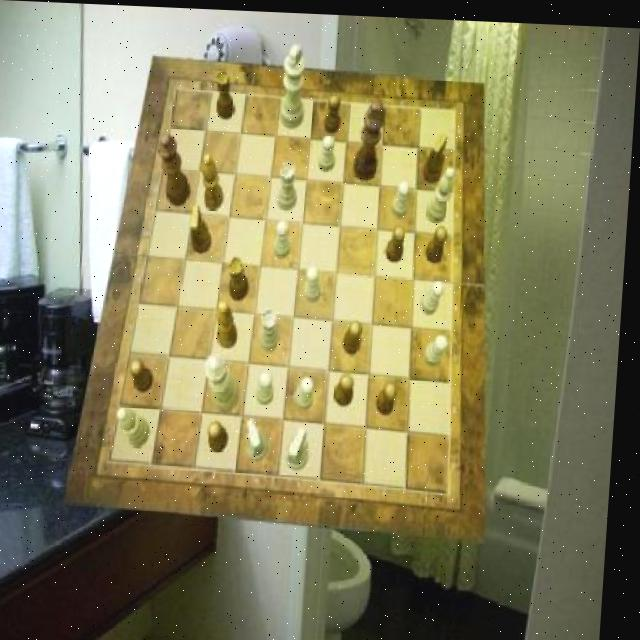bishop: (202, 152, 228, 209), (218, 299, 243, 347)
black-bishop: (354, 97, 388, 178)
black-king: (424, 129, 450, 180), (191, 204, 216, 253)
black-knight: (134, 357, 159, 392), (427, 222, 449, 260), (388, 222, 409, 259), (211, 419, 234, 452), (346, 317, 367, 353), (381, 377, 402, 412), (325, 92, 343, 132), (339, 371, 360, 404)
black-pawn: (155, 132, 195, 206)
black-queen: (215, 68, 238, 117), (230, 255, 255, 299)
black-rook: (428, 163, 457, 220), (121, 405, 156, 446)
white-bishop: (280, 41, 307, 127)
white-king: (250, 416, 276, 459), (290, 425, 315, 468)
white-knight: (423, 276, 448, 311), (428, 329, 453, 363), (393, 177, 413, 215), (306, 262, 325, 300), (275, 218, 294, 256), (319, 132, 338, 170), (260, 369, 279, 404), (300, 373, 319, 407)
white-pawn: (207, 351, 247, 410)
white-queen: (279, 161, 301, 209), (262, 305, 285, 348)
